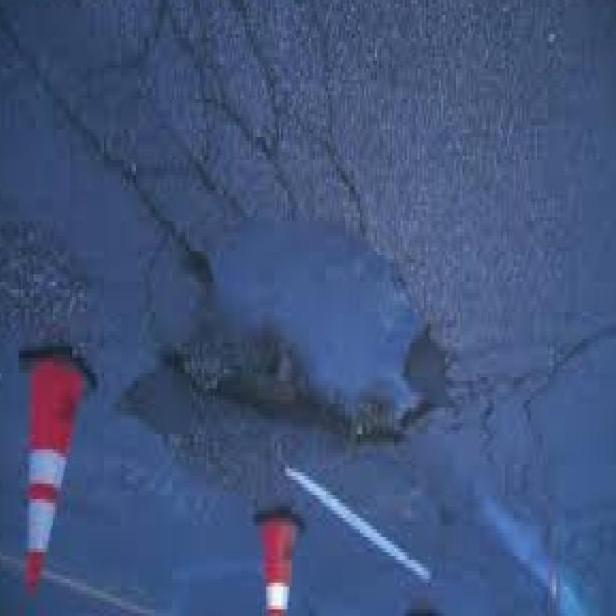pothole: (171, 213, 454, 447)
